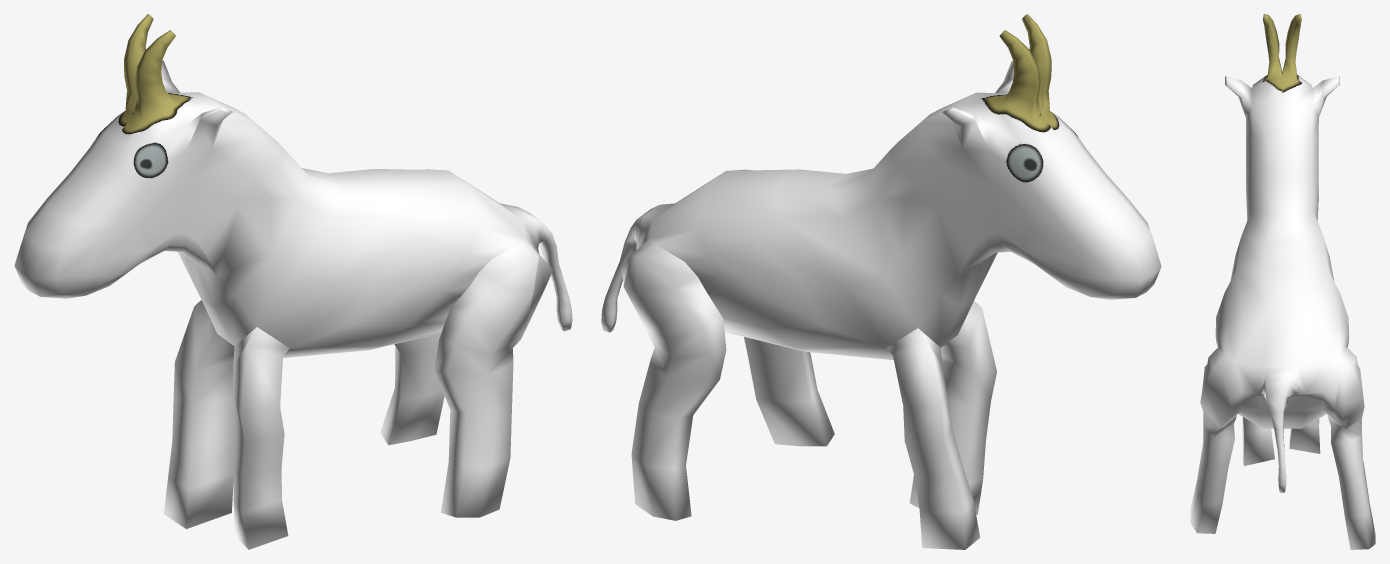
File: goatAnim_000009.obj
3 renders of one model, left to right at view 1: azimuth 30°, elevation 25°; view 2: azimuth 150°, elevation 25°; view 3: azimuth 270°, elevation 25°, orthographic. The views are drawn at different scales.
Visible parts, largest first — view 1: Cube; view 2: Cube; view 3: Cube.
Part boxes in pixels (x1=…): Cube: x1=14, y1=14, x2=572, y2=549; Cube: x1=601, y1=14, x2=1161, y2=549; Cube: x1=1190, y1=14, x2=1375, y2=549.
Bounding box in the file's own units: 1.31 × 1.2 × 0.4842.
